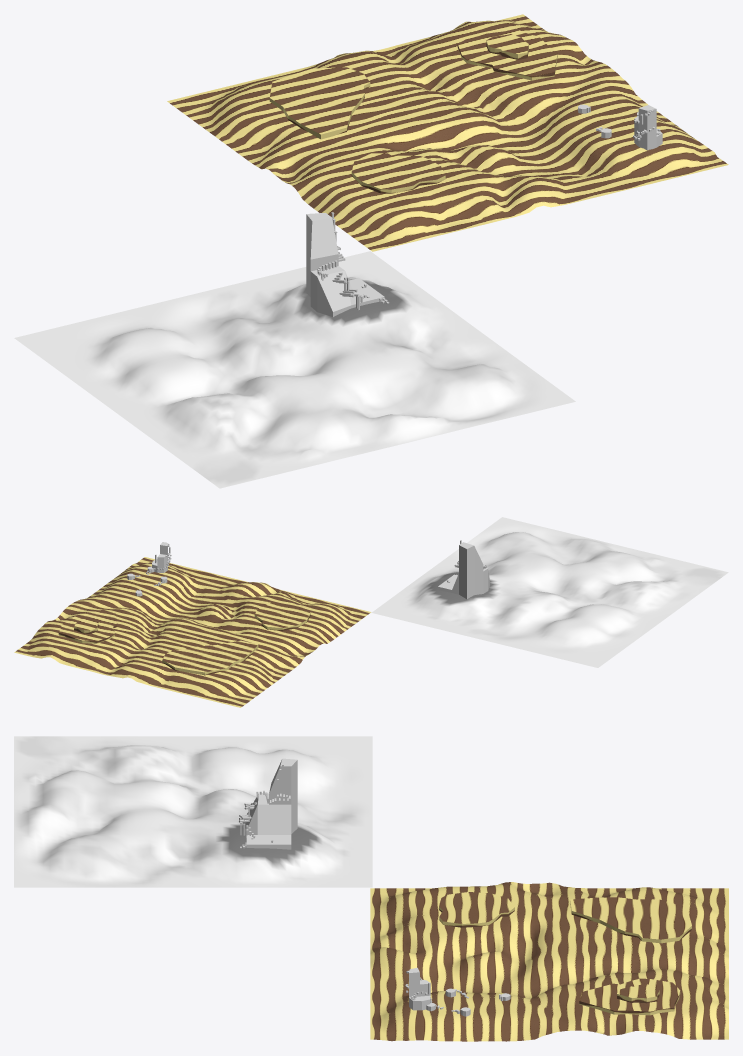
The model's file is SM_SugarArchipelago.fbx.
3 views of the same model, one above another, from view 1: azimuth 30°, elevation 25°; view 2: azimuth 150°, elevation 25°; view 3: azimuth 270°, elevation 25° (orthographic). The views are drawn at different scales.
Visible parts, largest first — view 1: Island.001, Island, Platform, Tower2, Platform.001, Platform.002, Tower, Platform.003; view 2: Island.001, Island, Platform, Tower2, Platform.002, Platform.001, Platform.003, Tower; view 3: Island.001, Island, Platform, Tower2, Platform.002, Platform.001, Tower, Platform.003.
Part boxes in pixels (x1,y1,x2,y2): Island.001: [14, 251, 575, 488]; Island: [167, 14, 728, 251]; Platform: [269, 67, 370, 139]; Tower2: [306, 213, 384, 316]; Platform.001: [351, 153, 445, 193]; Platform.002: [457, 29, 557, 80]; Tower: [634, 105, 662, 150]; Platform.003: [486, 34, 528, 59]; Island.001: [371, 517, 728, 667]; Island: [14, 557, 371, 707]; Platform: [162, 640, 258, 675]; Tower2: [438, 542, 489, 599]; Platform.002: [58, 610, 116, 643]; Platform.001: [254, 602, 310, 630]; Platform.003: [74, 617, 98, 633]; Tower: [152, 542, 167, 572]; Island.001: [14, 736, 372, 887]; Island: [370, 882, 728, 1041]; Platform: [570, 897, 691, 943]; Tower2: [242, 758, 297, 849]; Platform.002: [579, 978, 680, 1015]; Platform.001: [439, 892, 514, 927]; Tower: [409, 967, 430, 1010]; Platform.003: [617, 984, 659, 1003].
Bounding box in the file's own units: 318977 × 45648 × 321459.
